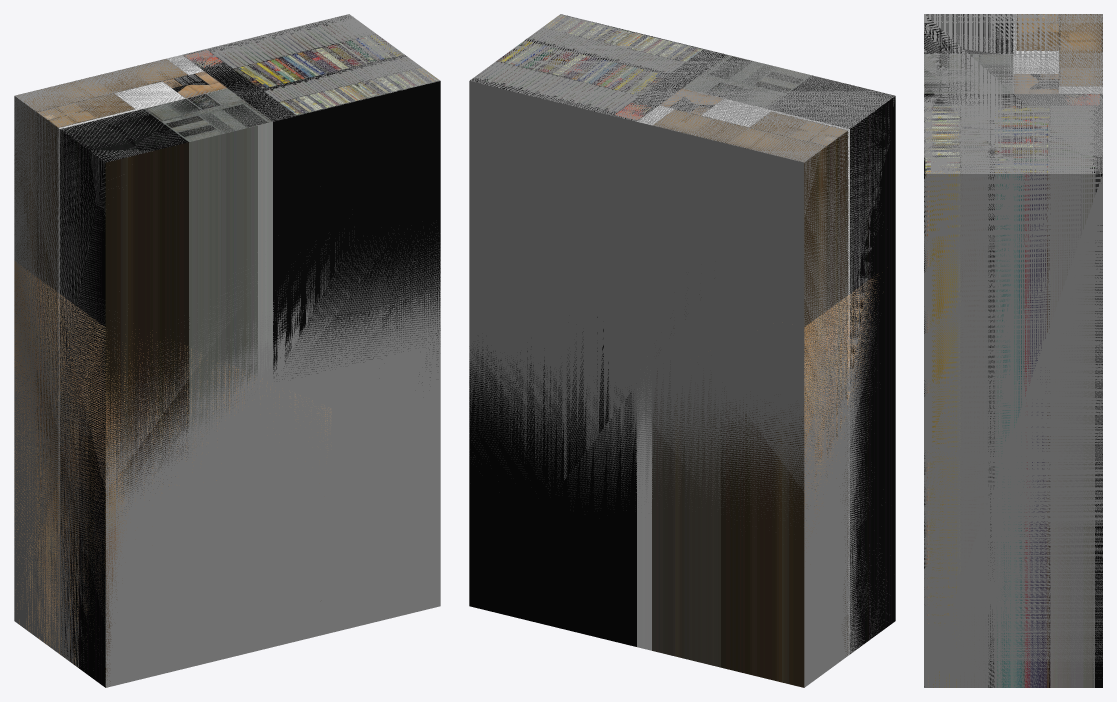
The model's file is knife_set.FBX.
3 views of the same model, side by side, from view 1: azimuth 30°, elevation 25°; view 2: azimuth 150°, elevation 25°; view 3: azimuth 270°, elevation 25° (orthographic). The views are drawn at different scales.
Visible parts, largest first — view 1: bounds, colbox-1, knife_set100; view 2: bounds, colbox-1, knife_set100; view 3: bounds, colbox-1.
Boxes of the visible parts, x1,y1,x2,y2 form: bounds: [14, 14, 440, 687]; colbox-1: [14, 15, 440, 687]; knife_set100: [14, 261, 331, 687]; bounds: [469, 14, 895, 687]; colbox-1: [469, 14, 895, 687]; knife_set100: [804, 274, 877, 527]; bounds: [924, 14, 1102, 687]; colbox-1: [924, 14, 1102, 687].
Size of the model in its own units: 30.47 by 45.65 by 14.4.
